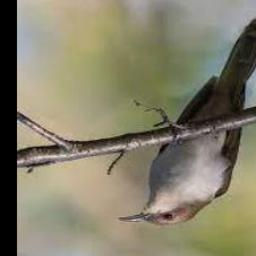Cuckoo: (119, 19, 256, 225)
